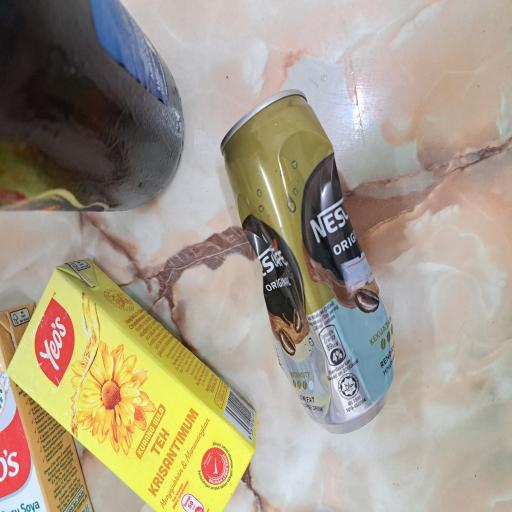can: (58, 293, 315, 512)
drink carton: (0, 9, 192, 344), (0, 0, 160, 123)
glass bottle: (225, 0, 384, 248)
